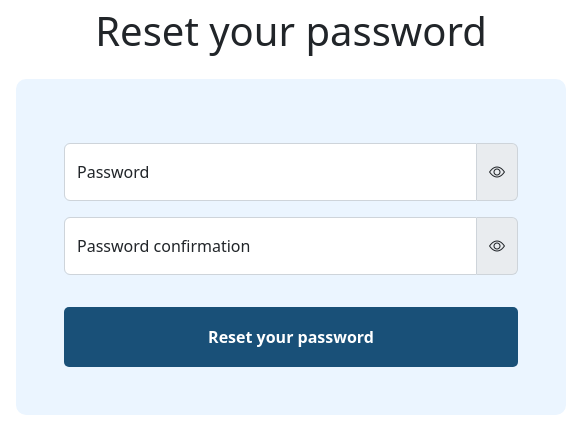
Test case: ResetPassword › after form submission › renders a loader awaiting response
The width and height of the screenshot is (583, 432).
Type "Vianney13" into the password field with test id "password" at (270, 172), box x1=64 y1=143 x2=477 y2=201
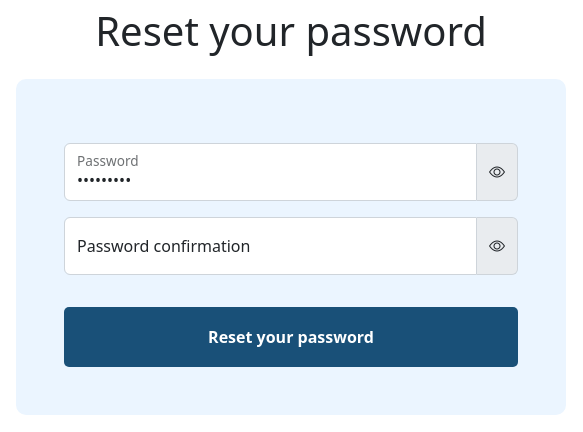
Type "Vianney13" into the password field with test id "passwordConfirmation" at (270, 246), box x1=64 y1=217 x2=477 y2=275
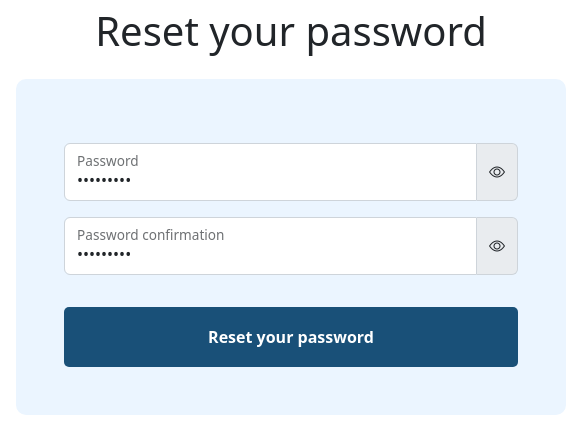
Click the button "Reset your password" at (291, 337), box x1=64 y1=307 x2=518 y2=367
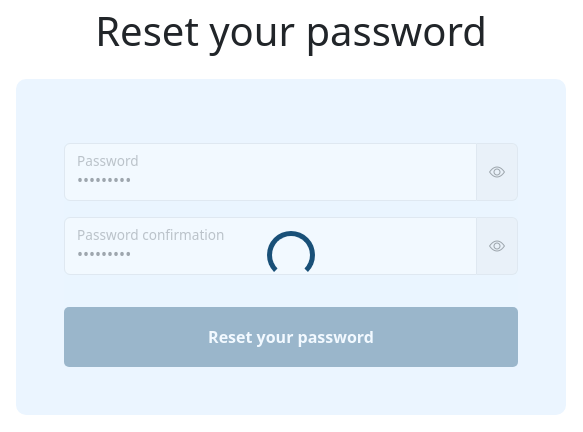
Now the message is shown, box x1=267 y1=231 x2=315 y2=279
